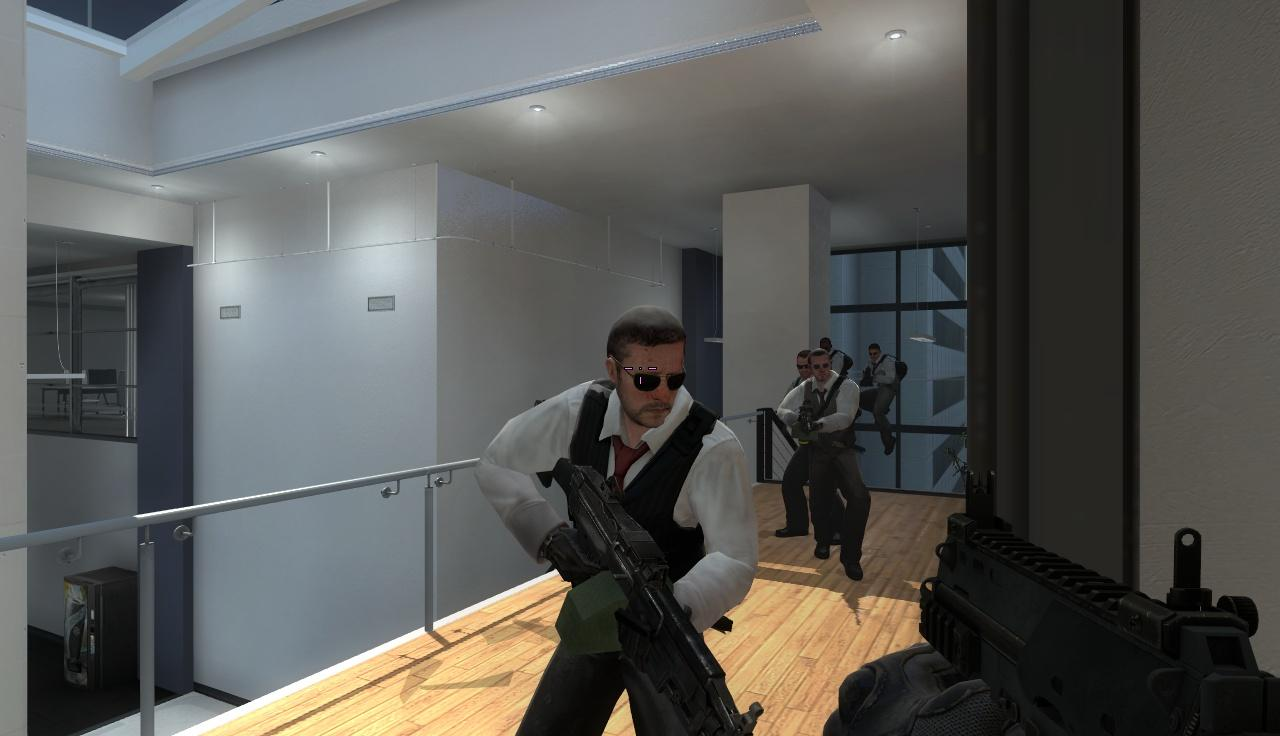rifle: (914, 466, 1280, 736)
tt: (516, 303, 758, 736), (803, 348, 859, 557), (863, 344, 895, 450)
tthead: (605, 304, 685, 431), (809, 348, 831, 381), (797, 349, 809, 379), (868, 344, 880, 361), (820, 337, 832, 348)
